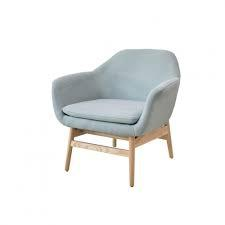chair: (45, 30, 192, 198)
